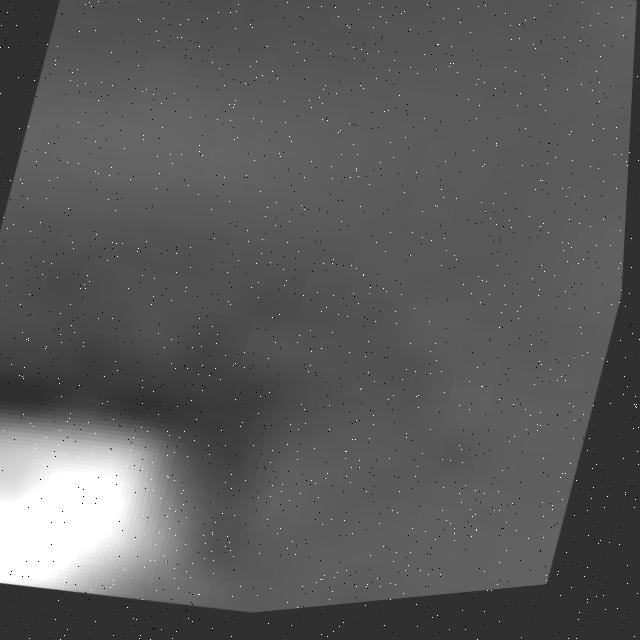person: (1, 337, 304, 638)
